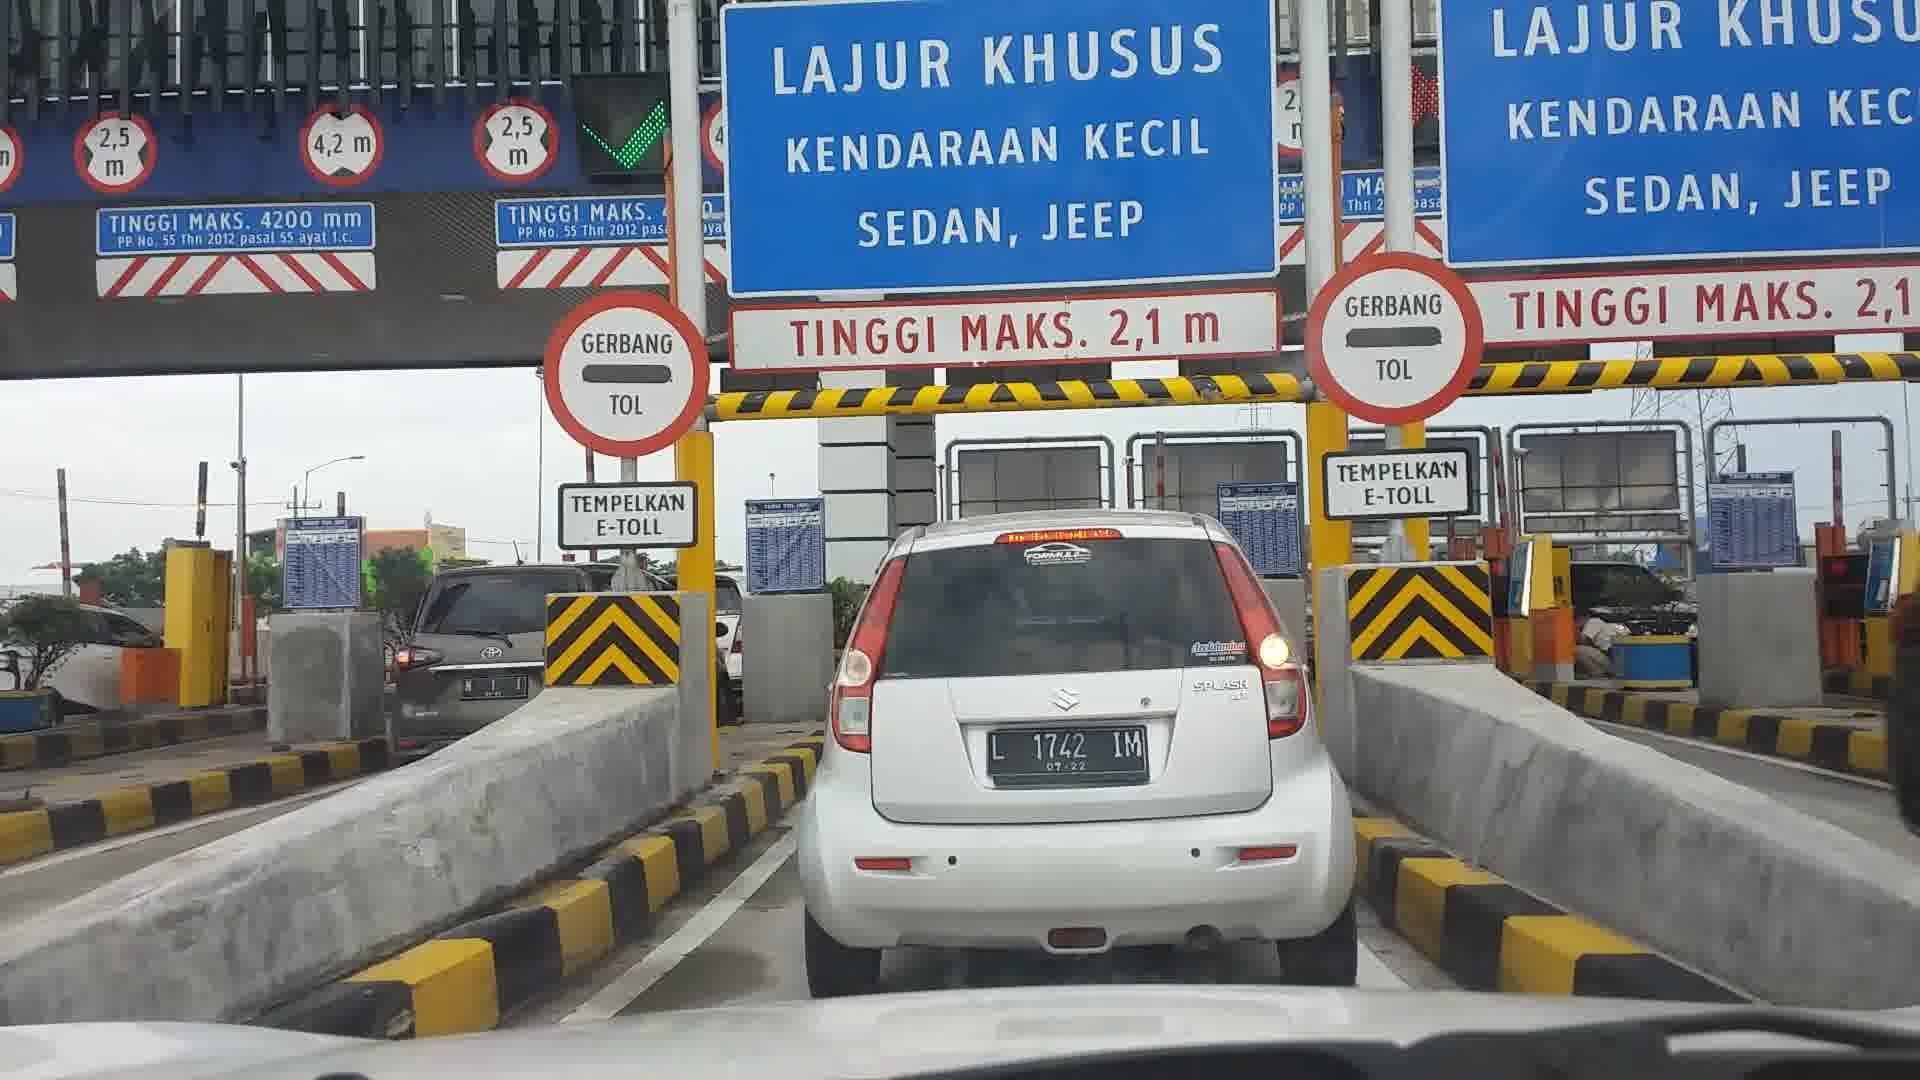plate_positive: (986, 728, 1149, 787), (462, 675, 527, 702)
